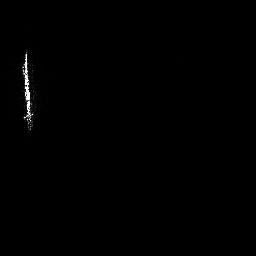ship: (20, 48, 37, 131)
